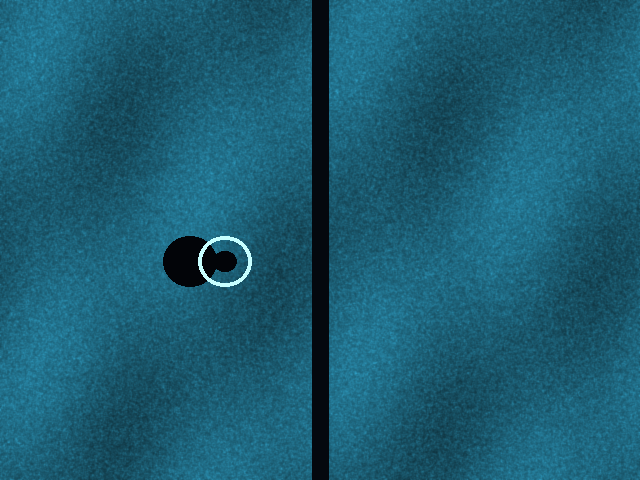Tire: (198, 236, 251, 286)
